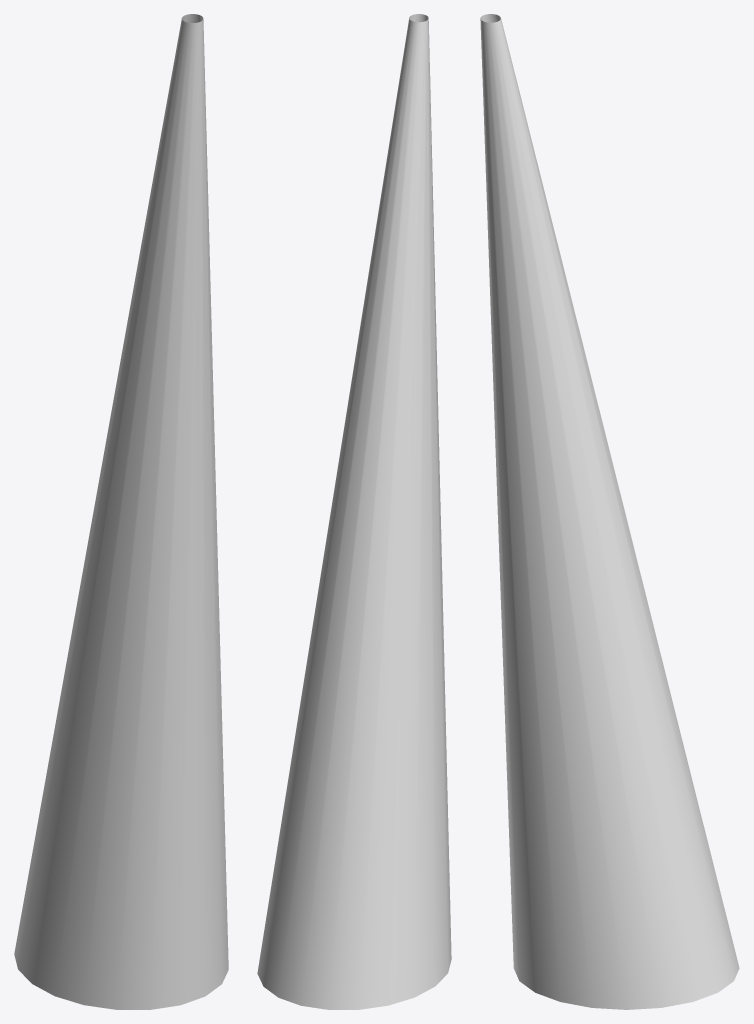
File: beam_vrs2.fbx
The picture shows the model from 3 angles, left to right: view 1: azimuth 30°, elevation 25°; view 2: azimuth 150°, elevation 25°; view 3: azimuth 270°, elevation 25°; orthographic projection. The views are drawn at different scales.
Parts seen in each view (by area): view 1: polySurface3; view 2: polySurface3; view 3: polySurface3.
Part boxes in pixels (box(x1,y1,x2,y2)): polySurface3: box(14, 14, 228, 1009); polySurface3: box(257, 14, 451, 1009); polySurface3: box(480, 14, 739, 1009).
Size of the model in its own units: 2 by 10.62 by 2.63.
1 material, 1 textured.
